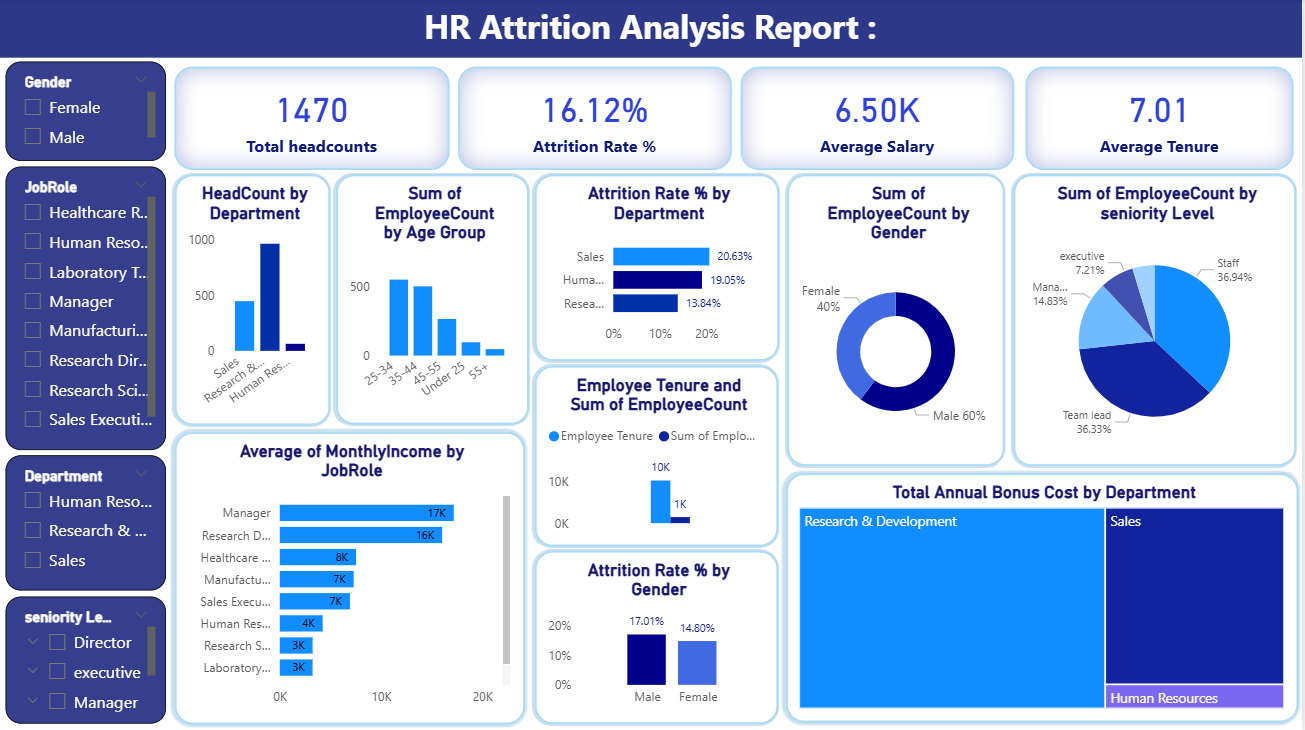

This screenshot's page, from the dashboard's own definition file:
{"tool":"powerbi","page":{"name":"Page 1","canvas":[1280,720],"ordinal":0},"visuals":[{"type":"textbox","box":[0,0,1280.3,57.6],"z":0},{"type":"slicer","fields":{"Values":["HR_Data.Department"]},"box":[6.9,447.3,157.8,133.1],"z":1000},{"type":"slicer","fields":{"Values":["HR_Data.JobRole"]},"box":[6.9,164.7,157.8,278.6],"z":2000},{"type":"slicer","fields":{"Values":["HR_Data.Gender"]},"box":[6.9,61.7,157.8,97.4],"z":3000},{"type":"slicer","fields":{"Values":["HR_Data.seniority Level","HR_Data.Attrition"]},"box":[6.9,585.9,157.8,124.9],"z":4000},{"type":"card","fields":{"Values":["Sum(HR_Data.EmployeeCount)"]},"box":[172.9,65.9,270.3,101.5],"z":5000},{"type":"card","fields":{"Values":["Avg(HR_Data.MonthlyIncome)"]},"box":[728.6,65.9,269,101.5],"z":6000},{"type":"card","fields":{"Values":["Avg(HR_Data.YearsAtCompany)"]},"box":[1008.6,65.9,263.5,101.5],"z":7000},{"type":"card","fields":{"Values":["HR_Data.Attrition Rate %"]},"box":[451.5,65.9,269,101.5],"z":8000},{"type":"columnChart","fields":{"Category":["HR_Data.Department"],"Y":["HR_Data.HeadCount"]},"box":[172.9,171.5,153.7,247],"z":9000},{"type":"clusteredBarChart","fields":{"Category":["HR_Data.Department"],"Y":["HR_Data.Attrition Rate %"]},"box":[526.4,171.8,240.5,184.1],"z":10000},{"type":"clusteredColumnChart","fields":{"Y":["Sum(HR_Data.EmployeeCount)"],"Category":["HR_Data.Age Group"]},"box":[331.3,171.8,190.2,246.6],"z":11000},{"type":"donutChart","fields":{"Category":["HR_Data.Gender"],"Y":["Sum(HR_Data.EmployeeCount)"]},"box":[774.2,171.8,214.7,287.1],"z":12000},{"type":"barChart","fields":{"Category":["HR_Data.JobRole"],"Y":["Avg(HR_Data.MonthlyIncome)"]},"box":[172.9,424,344.4,288.2],"z":13000},{"type":"clusteredColumnChart","fields":{"Y":["HR_Data.Employee Tenure","Sum(HR_Data.EmployeeCount)"]},"box":[526.9,359.5,240.1,178.4],"z":14000},{"type":"columnChart","fields":{"Category":["HR_Data.Gender"],"Y":["HR_Data.Attrition Rate %"]},"box":[526.9,540.7,240.1,171.5],"z":15000},{"type":"treemap","fields":{"Group":["HR_Data.Department"],"Values":["HR_Data.Total Annual Bonus Cost"]},"box":[772.6,465.2,503.6,245.6],"z":16000},{"type":"pieChart","fields":{"Category":["HR_Data.seniority Level"],"Y":["Sum(HR_Data.EmployeeCount)"]},"box":[996.3,171.8,278.5,287.1],"z":17000}]}

Visuals, with their boxes in screenshot pixels (x1, y1, x2, y2), scaled from the page's 1280x720 canvas onto the 1305x730 screenshot:
textbox: {"left": 0, "top": 0, "right": 1304, "bottom": 58}
slicer - HR_Data.Department: {"left": 7, "top": 454, "right": 168, "bottom": 588}
slicer - HR_Data.JobRole: {"left": 7, "top": 167, "right": 168, "bottom": 449}
slicer - HR_Data.Gender: {"left": 7, "top": 63, "right": 168, "bottom": 161}
slicer - HR_Data.seniority Level x HR_Data.Attrition: {"left": 7, "top": 594, "right": 168, "bottom": 721}
card - Sum(HR_Data.EmployeeCount): {"left": 176, "top": 67, "right": 452, "bottom": 170}
card - Avg(HR_Data.MonthlyIncome): {"left": 743, "top": 67, "right": 1017, "bottom": 170}
card - Avg(HR_Data.YearsAtCompany): {"left": 1028, "top": 67, "right": 1297, "bottom": 170}
card - HR_Data.Attrition Rate %: {"left": 460, "top": 67, "right": 735, "bottom": 170}
columnChart - HR_Data.Department x HR_Data.HeadCount: {"left": 176, "top": 174, "right": 333, "bottom": 424}
clusteredBarChart - HR_Data.Department x HR_Data.Attrition Rate %: {"left": 537, "top": 174, "right": 782, "bottom": 361}
clusteredColumnChart - Sum(HR_Data.EmployeeCount) x HR_Data.Age Group: {"left": 338, "top": 174, "right": 532, "bottom": 424}
donutChart - HR_Data.Gender x Sum(HR_Data.EmployeeCount): {"left": 789, "top": 174, "right": 1008, "bottom": 465}
barChart - HR_Data.JobRole x Avg(HR_Data.MonthlyIncome): {"left": 176, "top": 430, "right": 527, "bottom": 722}
clusteredColumnChart - HR_Data.Employee Tenure x Sum(HR_Data.EmployeeCount): {"left": 537, "top": 364, "right": 782, "bottom": 545}
columnChart - HR_Data.Gender x HR_Data.Attrition Rate %: {"left": 537, "top": 548, "right": 782, "bottom": 722}
treemap - HR_Data.Department x HR_Data.Total Annual Bonus Cost: {"left": 788, "top": 472, "right": 1301, "bottom": 721}
pieChart - HR_Data.seniority Level x Sum(HR_Data.EmployeeCount): {"left": 1016, "top": 174, "right": 1300, "bottom": 465}
